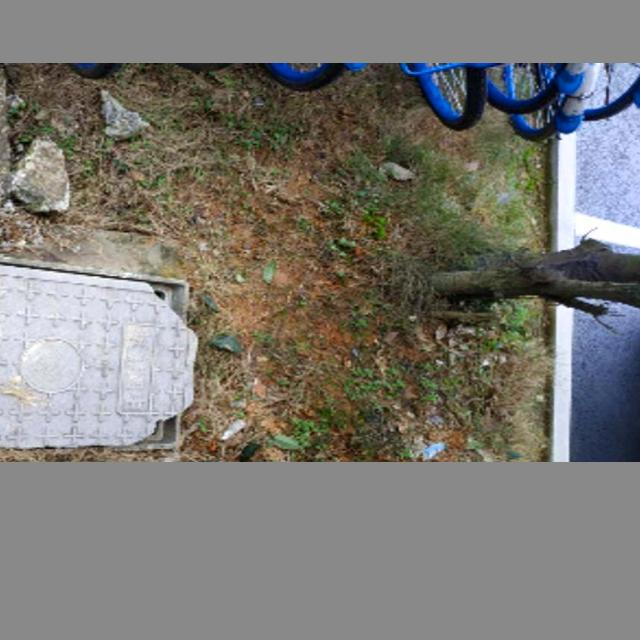broke: (0, 275, 207, 451)
